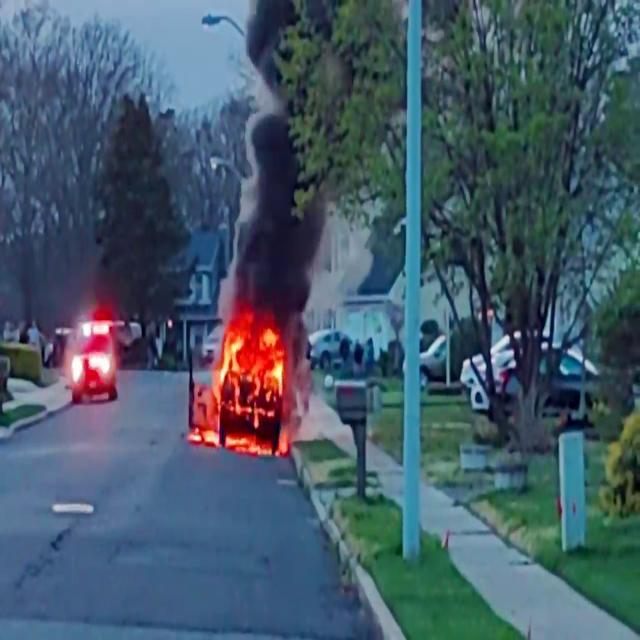Fire: (194, 315, 299, 453)
Smoke: (222, 74, 316, 303)
